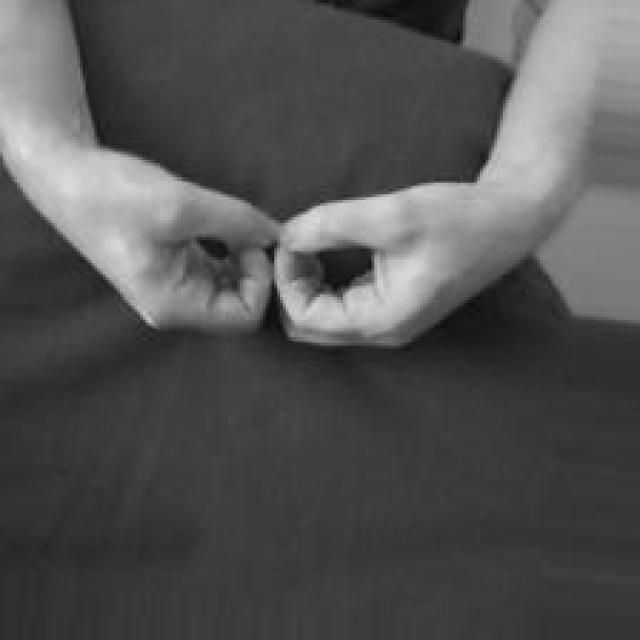B: (58, 125, 558, 348)
